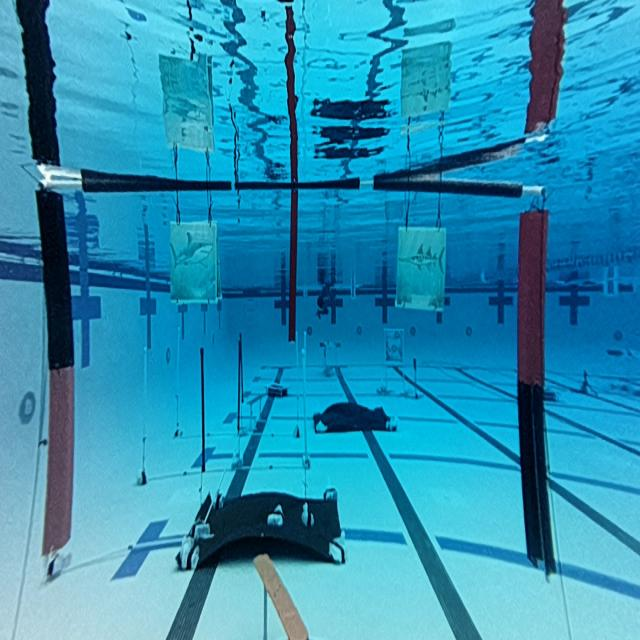pointed_nose: (393, 225, 449, 318)
round_nose: (167, 214, 222, 316)
